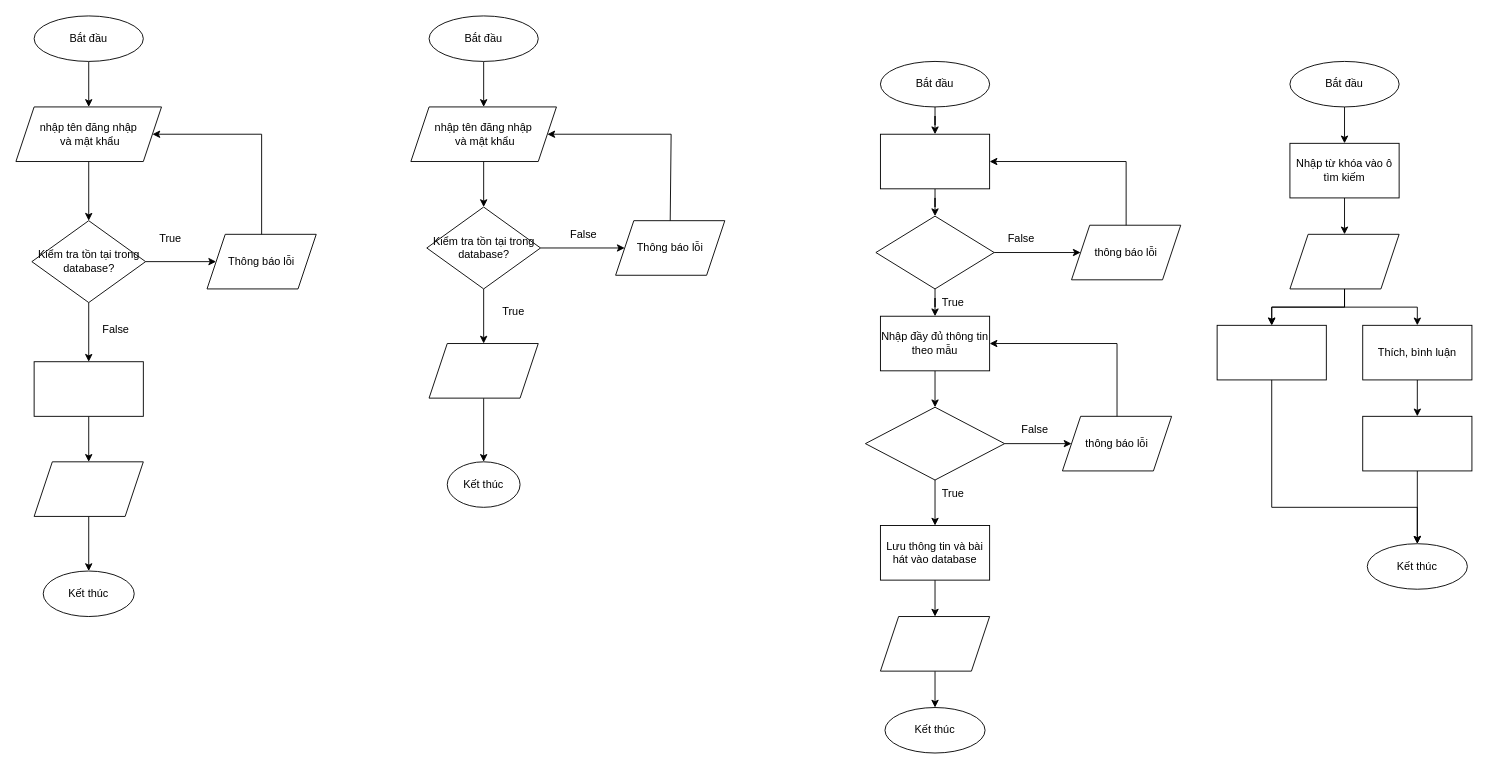
Image size: 1488x769. Some labels were removed from this diagram. Here are the shapes that lost their labels. From the top down, the centre of each, then its label:
At [935,161]: "Chọn 1 file .mp3 để tải lên".
At [934,252]: "Kiểm tra có phải file .mp3 không?".
At [1344,261]: "Tìm kiếm bài hát trong database theo từ khóa".
At [483,370]: "Di chuyển đến trang chủ".
At [1271,352]: "Phát bài hát".
At [88,388]: "Chèn thông tin vào database".
At [934,443]: "Kiểmtra mẫu có hợp lệ không?".
At [1417,443]: "Lưu thông tin vào database".
At [88,488]: "Thông báo đăng kí thành công".
At [935,643]: "Quay trở lại trang trước đó".
